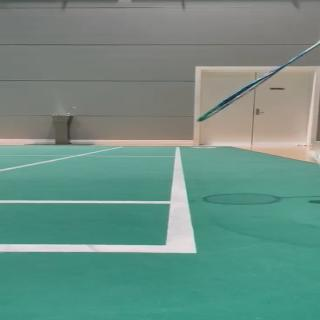Shuttle: (306, 149, 320, 163)
